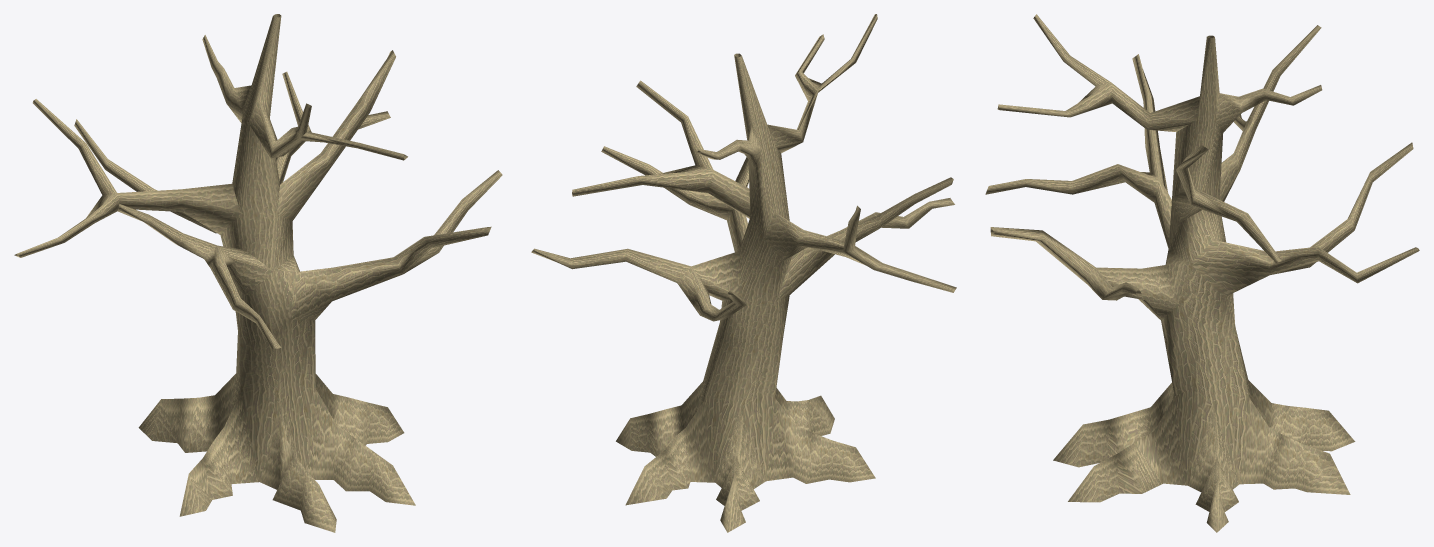
Rendered from INST_HTOWN_TREEB_LOD2.fbx.
The picture shows the model from 3 angles, left to right: view 1: azimuth 30°, elevation 25°; view 2: azimuth 150°, elevation 25°; view 3: azimuth 270°, elevation 25°; orthographic projection. The views are drawn at different scales.
Visible parts, largest first — view 1: INST_HTOWN_TREEB_LOD2; view 2: INST_HTOWN_TREEB_LOD2; view 3: INST_HTOWN_TREEB_LOD2.
Boxes of the visible parts, x1,y1,x2,y2 form: INST_HTOWN_TREEB_LOD2: [14, 14, 502, 532]; INST_HTOWN_TREEB_LOD2: [531, 14, 956, 532]; INST_HTOWN_TREEB_LOD2: [985, 14, 1419, 532].
Bounding box in the file's own units: 67397 × 66638 × 60305.
Materials: 5 (5 with a texture image).
